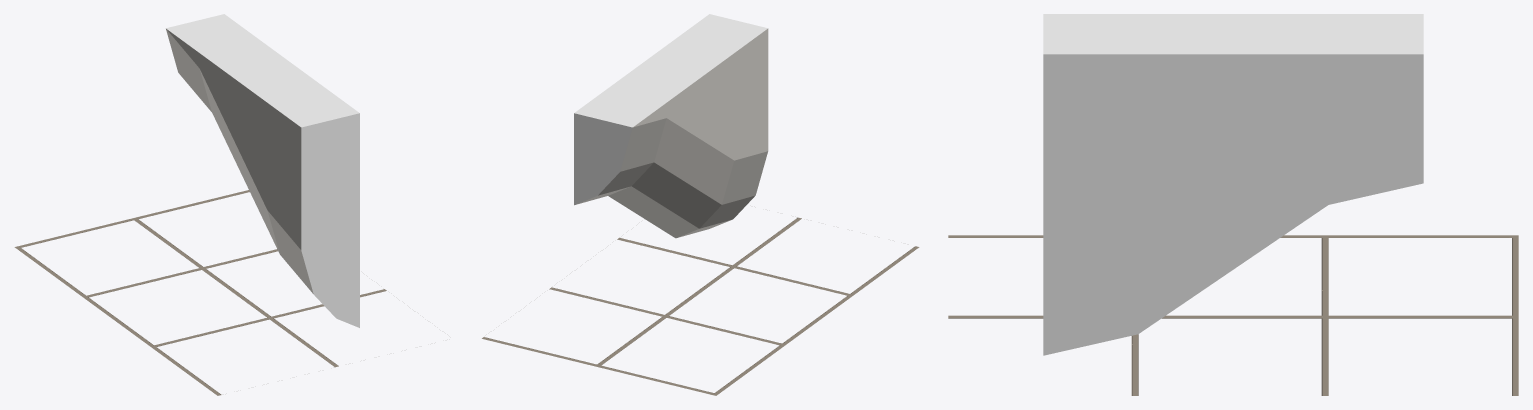
The model's file is Basic_Incline_Under_1x2.glb.
The picture shows the model from 3 angles, left to right: view 1: azimuth 30°, elevation 25°; view 2: azimuth 150°, elevation 25°; view 3: azimuth 270°, elevation 25°; orthographic projection. The views are drawn at different scales.
Visible parts, largest first — view 1: Basic_Incline_Under_1x2, Floor; view 2: Basic_Incline_Under_1x2, Floor; view 3: Basic_Incline_Under_1x2, Floor.
Part boxes in pixels (left/top/right/bottom): Basic_Incline_Under_1x2: left=166, top=14, right=359, bottom=327; Floor: left=14, top=190, right=386, bottom=395; Basic_Incline_Under_1x2: left=574, top=14, right=768, bottom=238; Floor: left=482, top=217, right=919, bottom=395; Basic_Incline_Under_1x2: left=1043, top=14, right=1423, bottom=355; Floor: left=948, top=235, right=1518, bottom=395.
Size of the model in its own units: 200 by 175 by 300.
3 materials, 1 textured.
